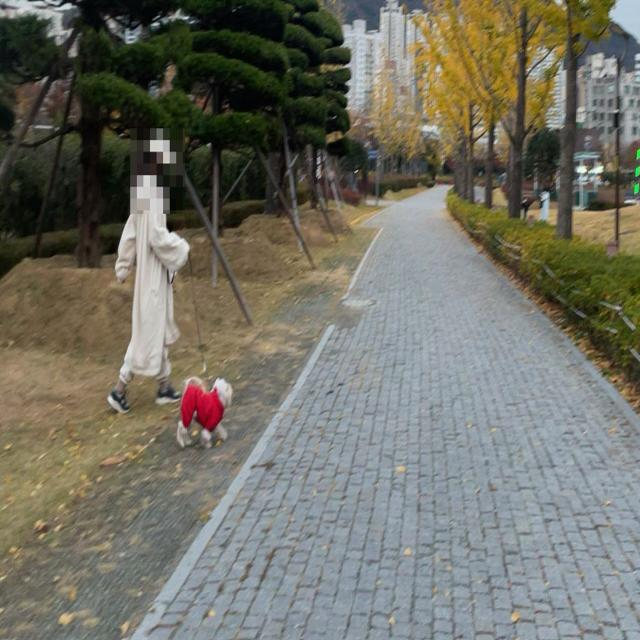Leashed_Dog: (162, 234, 234, 451)
